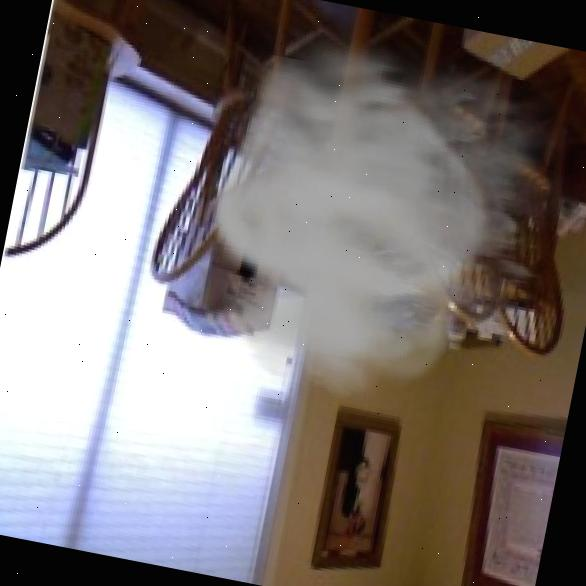smoke: (175, 0, 586, 437)
